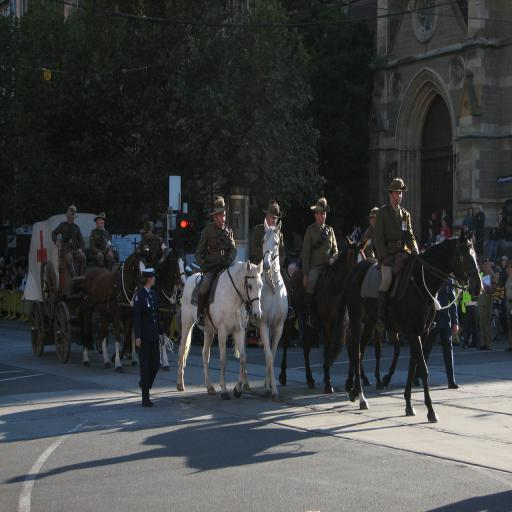horse: (79, 224, 485, 425)
